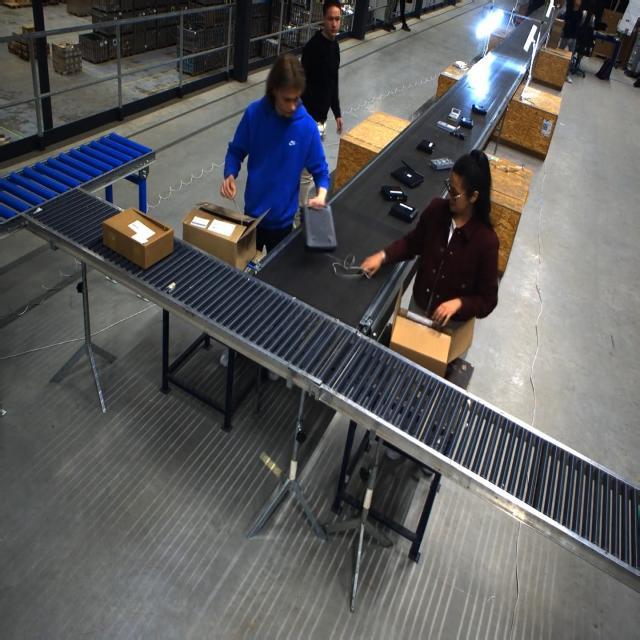box: (387, 282, 472, 378), (182, 201, 268, 271), (102, 207, 175, 270)
product: (302, 203, 335, 250), (390, 162, 424, 189), (388, 201, 418, 223), (380, 185, 407, 202), (428, 157, 453, 171), (416, 139, 436, 154), (436, 121, 458, 134), (447, 108, 461, 123), (471, 103, 487, 115), (459, 117, 474, 129), (452, 130, 466, 140)
